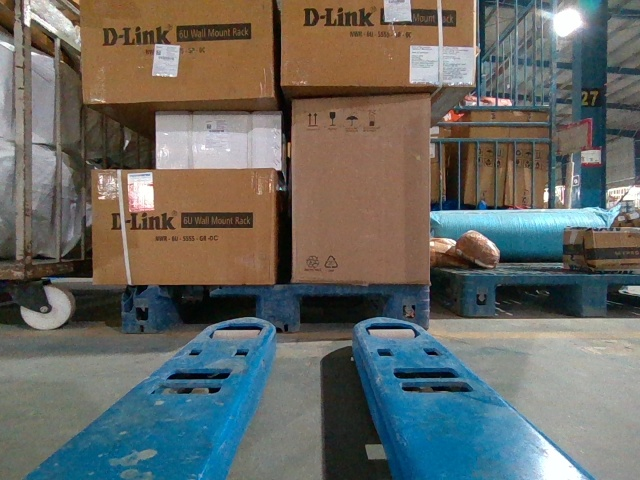block: (258, 288, 305, 337), (120, 286, 167, 334), (387, 287, 429, 335), (463, 276, 498, 319), (577, 276, 609, 314)
front: (122, 288, 429, 336)
hole pallet: (300, 297, 385, 334), (164, 297, 255, 329), (495, 284, 583, 316)
